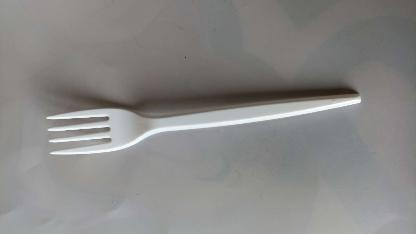Others: (42, 94, 364, 166)
